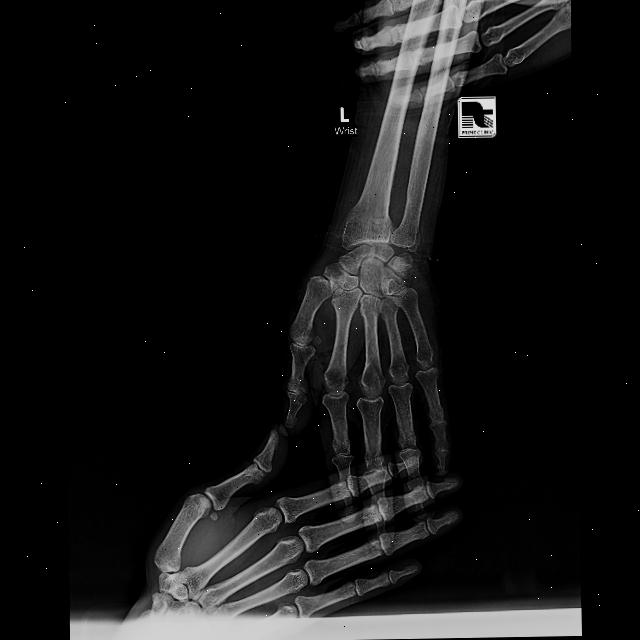Fracture: (338, 206, 399, 238)
